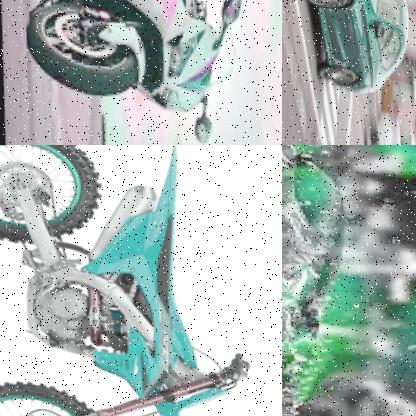bike: (0, 145, 260, 416), (11, 0, 259, 145)
car: (282, 145, 354, 360), (297, 0, 412, 96)
